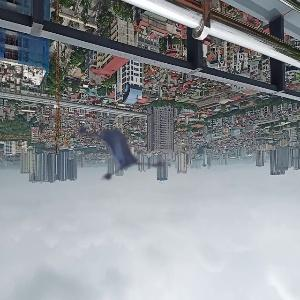drone: (55, 98, 158, 201)
